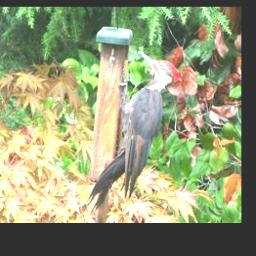Woodpecker: (87, 50, 183, 211)
